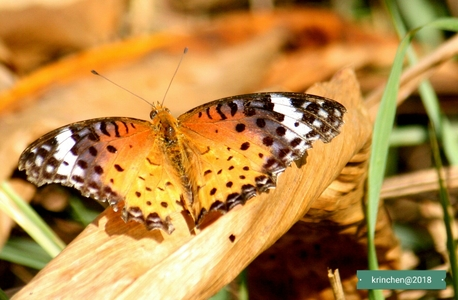Argyreus hyperbius: (13, 43, 343, 228)
butterfly: (15, 45, 345, 230)
